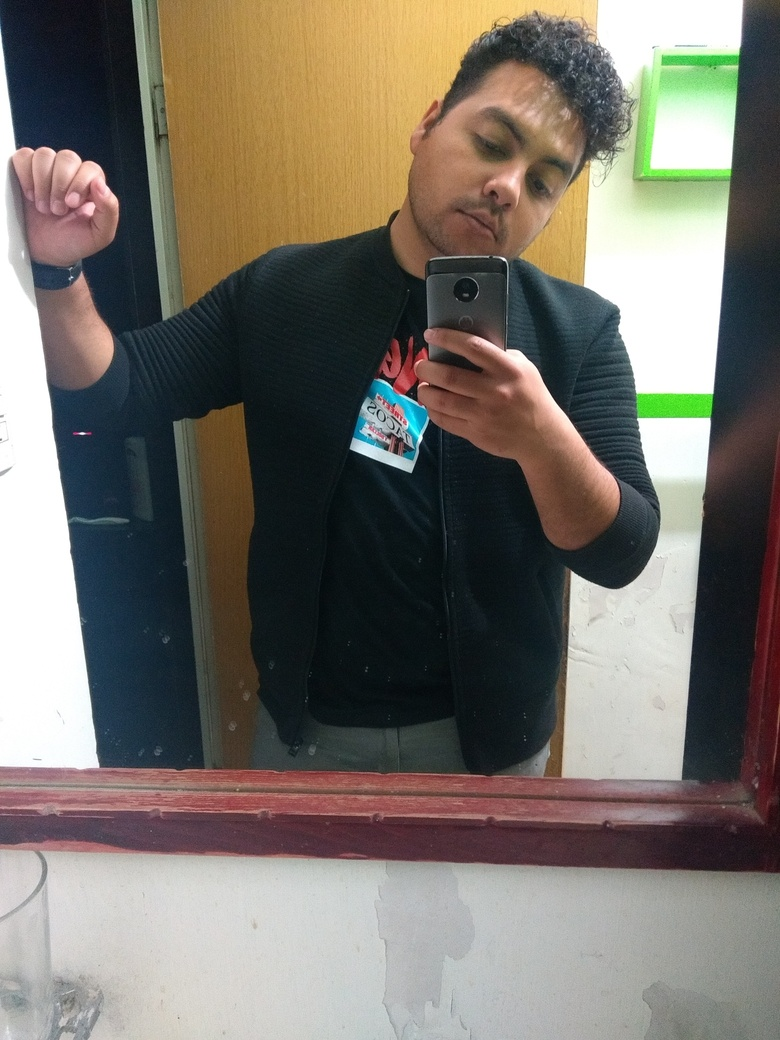Yoshi: (344, 9, 647, 298)
